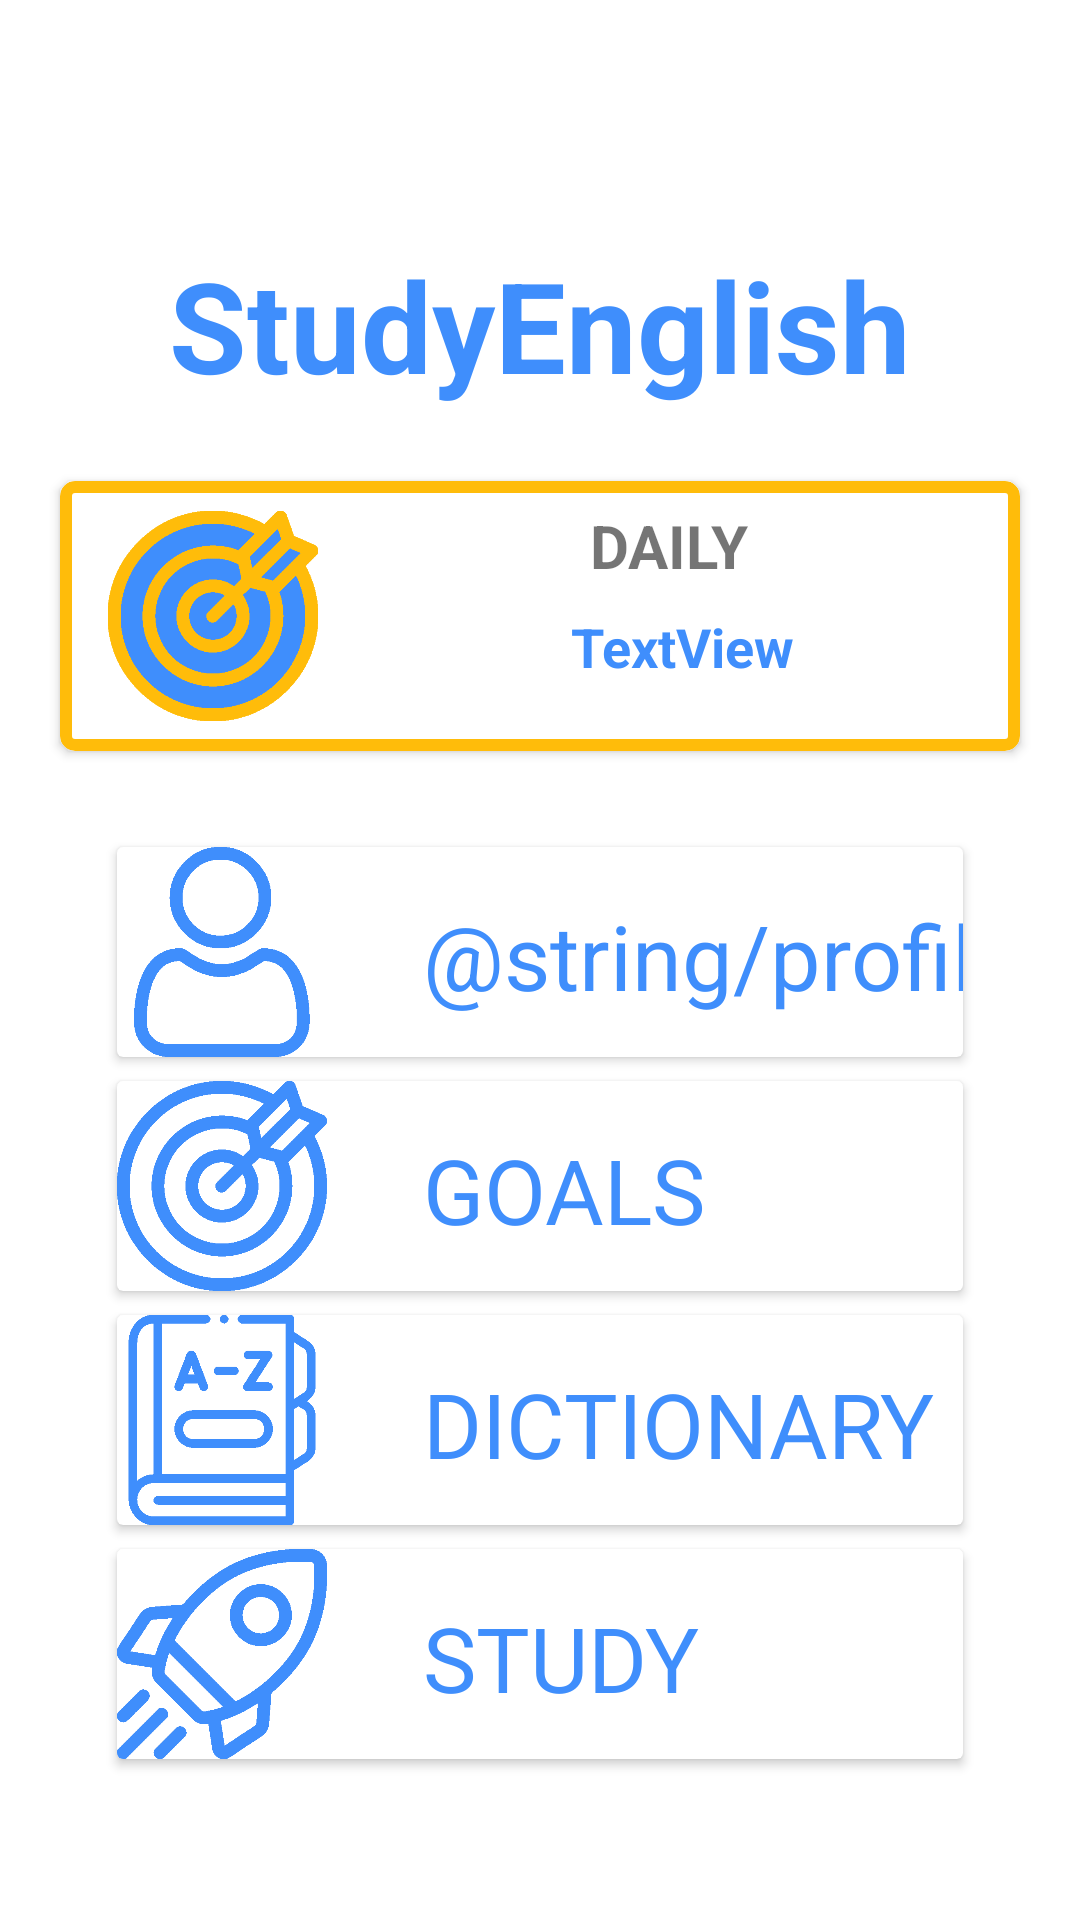

Icons on this 1080px x 1920px Android screen, each with its box as bbox=[x1, y1, x2, y2]:
shuttle: bbox=[117, 1549, 327, 1759]
user: bbox=[117, 847, 310, 1057]
